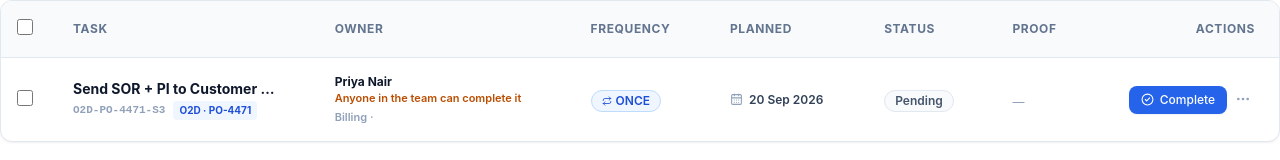
it: a mirrored row on the Checklist › hides Reassign and Mark non-functional, and says where they live
Click the 2nd button at (1243, 98), box [1231,86,1255,110]
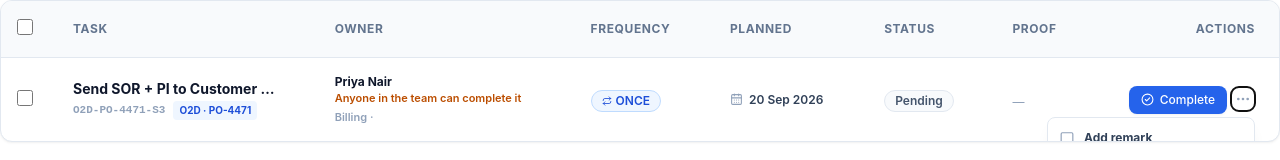
expect the button "Add remark" is shown: met, box [1048,122,1254,141]
